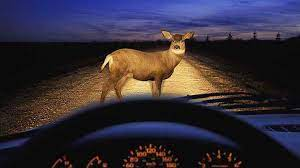deer: (92, 29, 197, 102)
